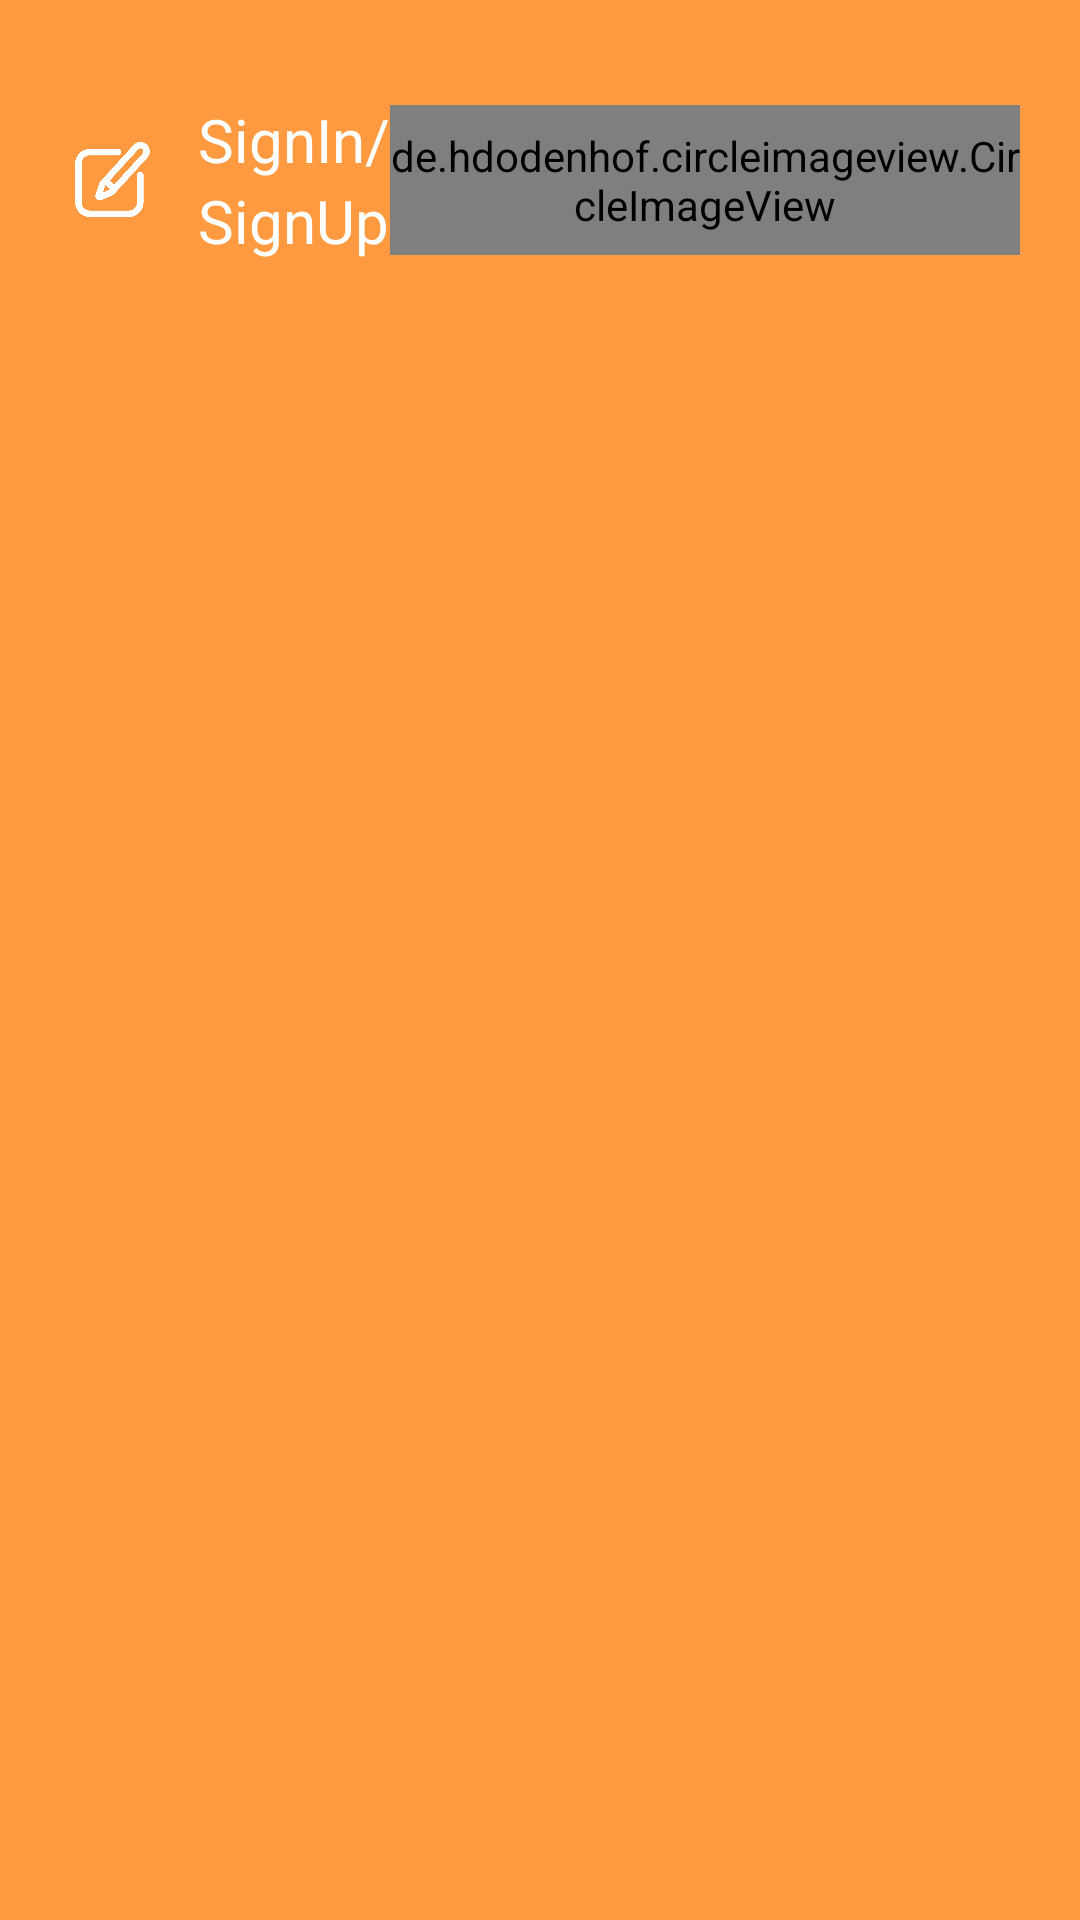

Where icons sit on this 1080px×1920px app screen, as (x1, y1, x2, y2):
edit: (75, 142, 150, 217)
